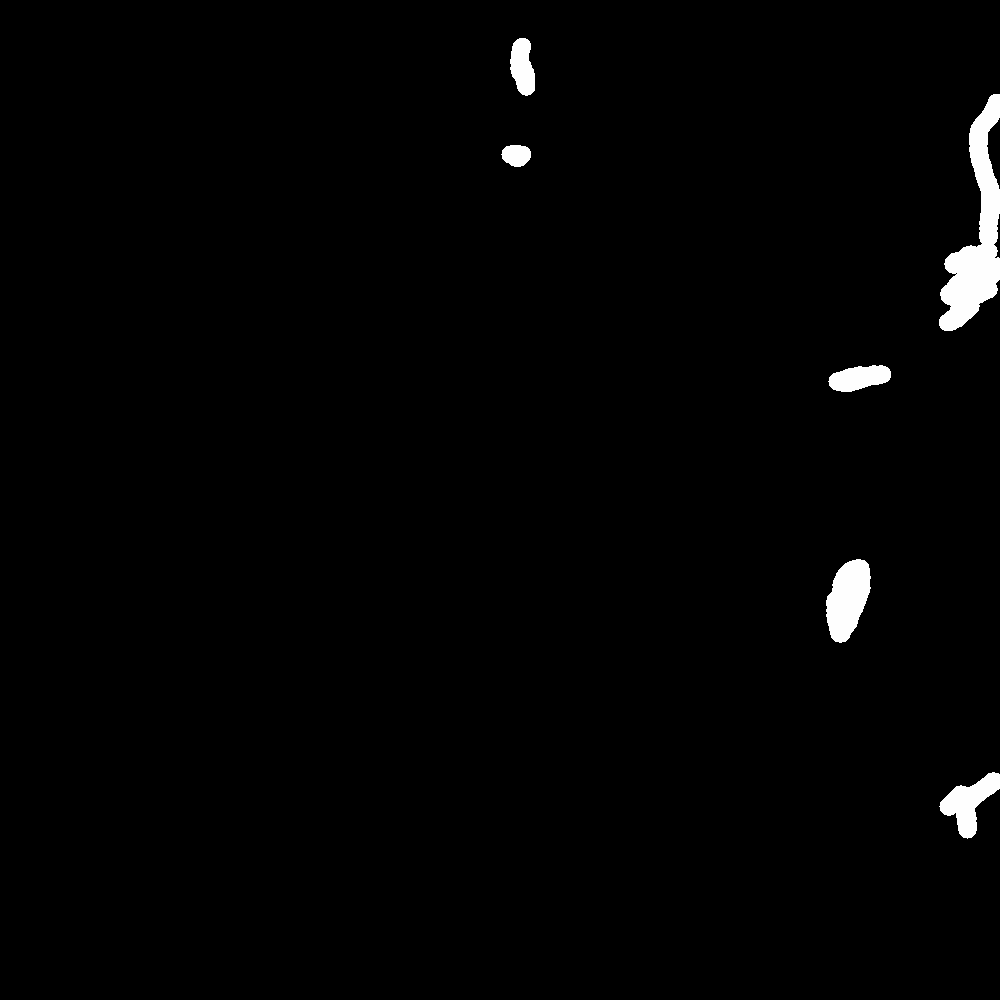illegal: (816, 554, 874, 642), (806, 355, 915, 397), (946, 770, 1000, 836), (944, 261, 1000, 323)
